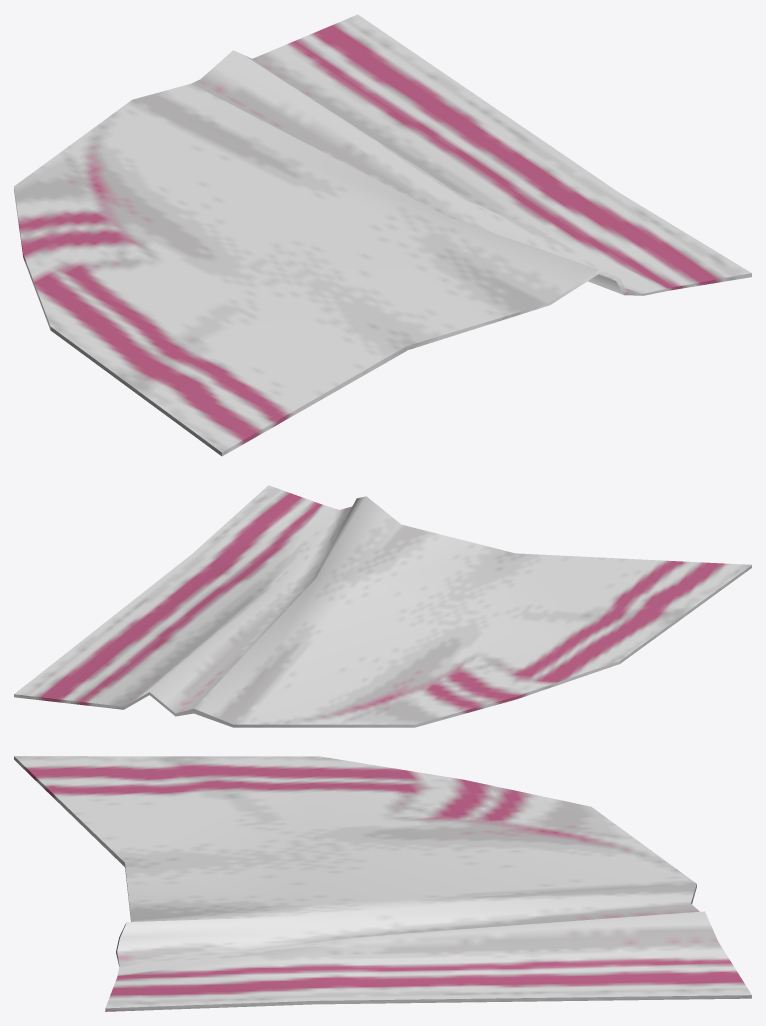
Rendered from FS4_Scraps.FBX.
3 renders of one model, top to bottom at view 1: azimuth 30°, elevation 25°; view 2: azimuth 150°, elevation 25°; view 3: azimuth 270°, elevation 25°, orthographic. The views are drawn at different scales.
Visible parts, largest first — view 1: DishCloth; view 2: DishCloth; view 3: DishCloth.
Boxes of the visible parts, bbox=[...] form: DishCloth: bbox=[14, 14, 751, 456]; DishCloth: bbox=[14, 485, 751, 727]; DishCloth: bbox=[14, 756, 751, 1011].
Size of the model in its own units: 0.2237 by 0.012 by 0.2766.
